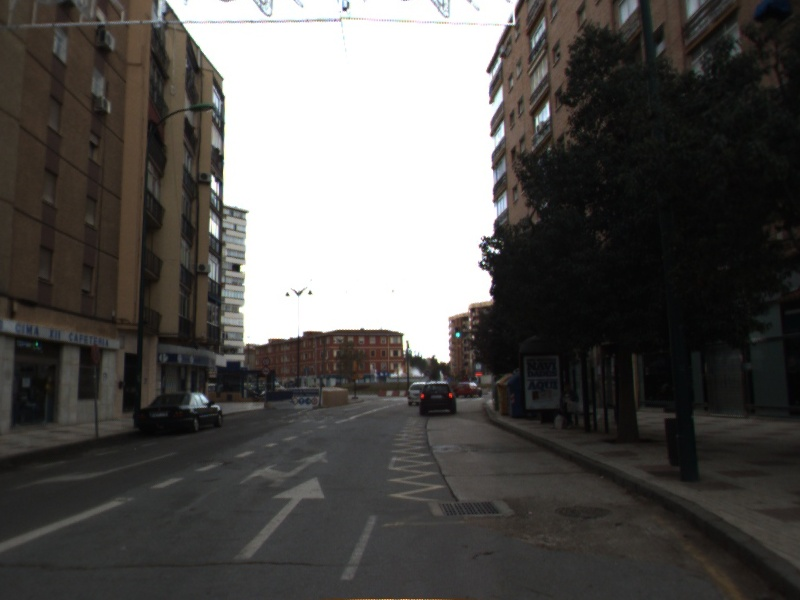STRAIGHT: (229, 475, 329, 563)
STRAIGHT_LEFT: (236, 449, 331, 489)
